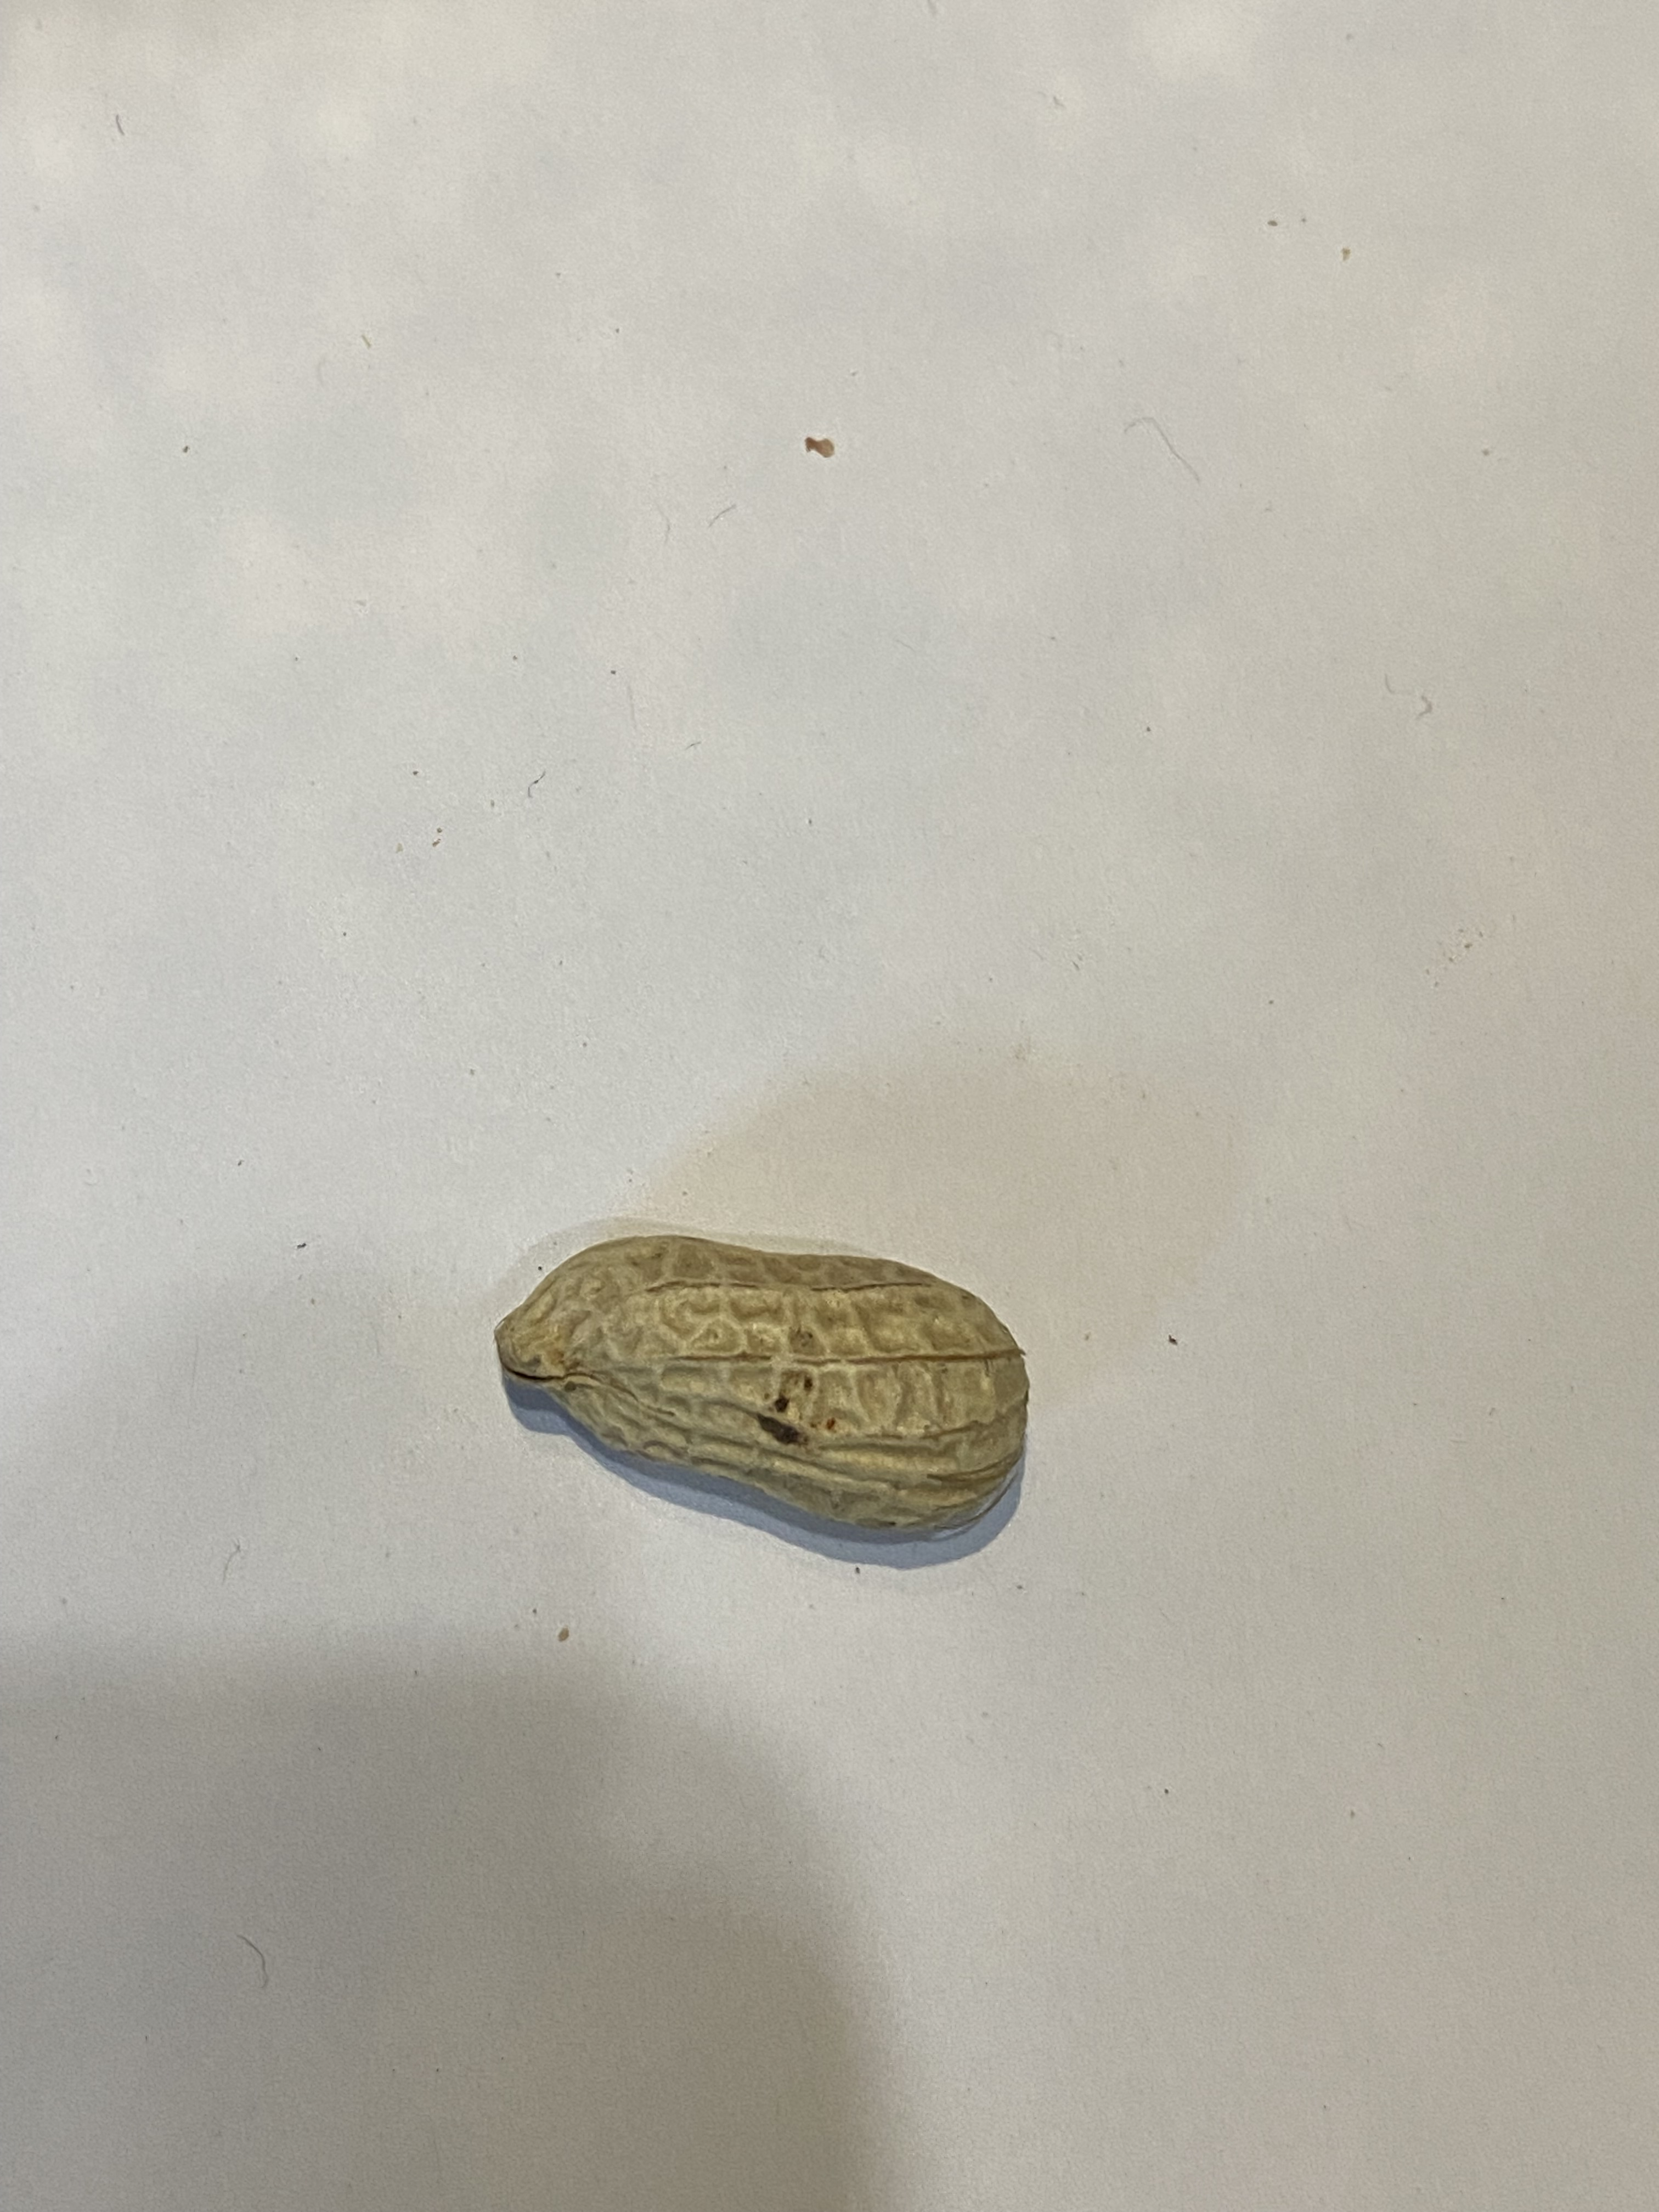kacang2: (471, 1230, 1068, 1541)
